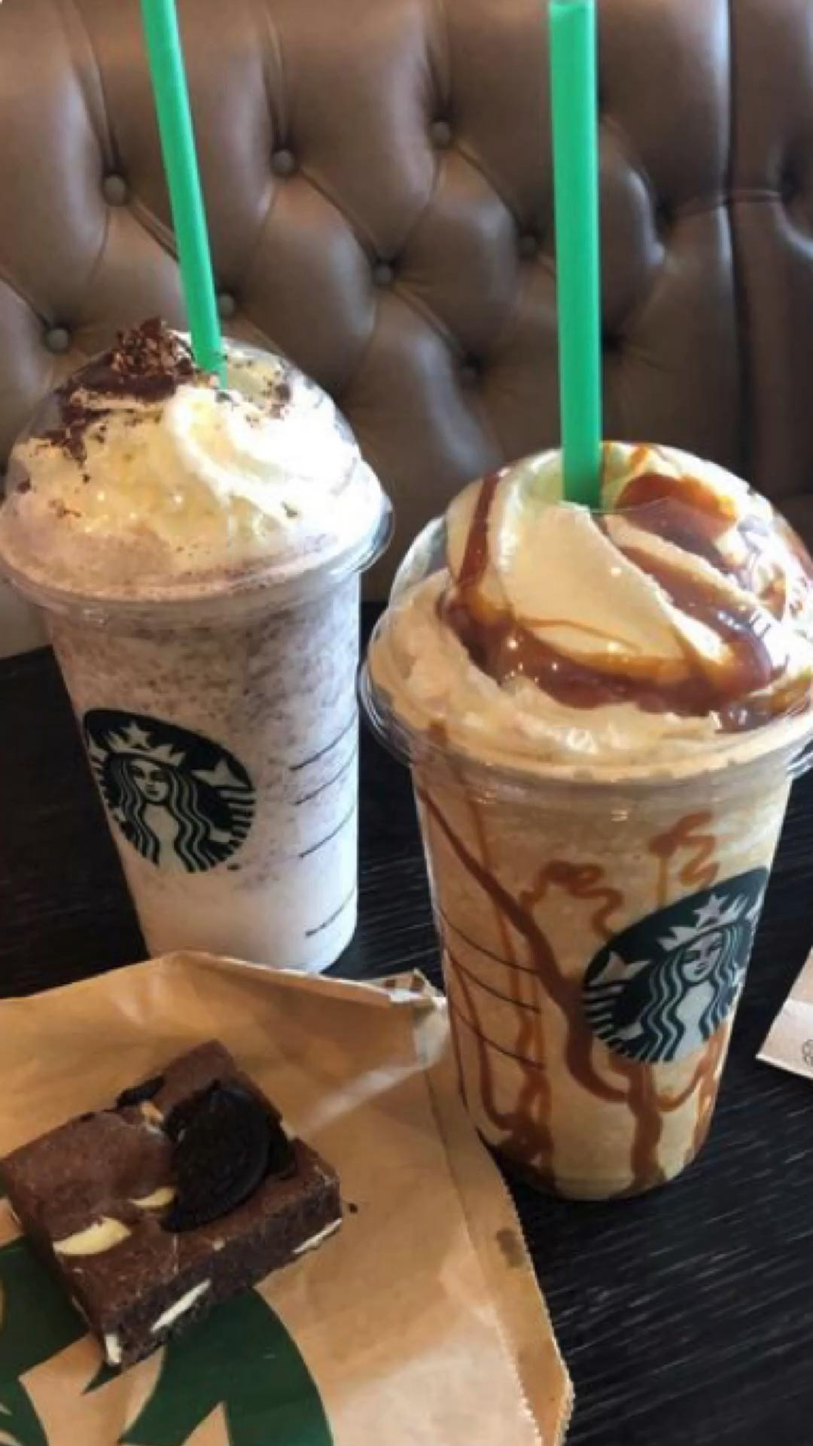cup-disposable: (361, 436, 811, 1207), (1, 325, 394, 972)
